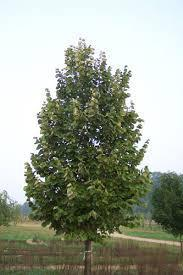tree: (20, 32, 152, 274)
